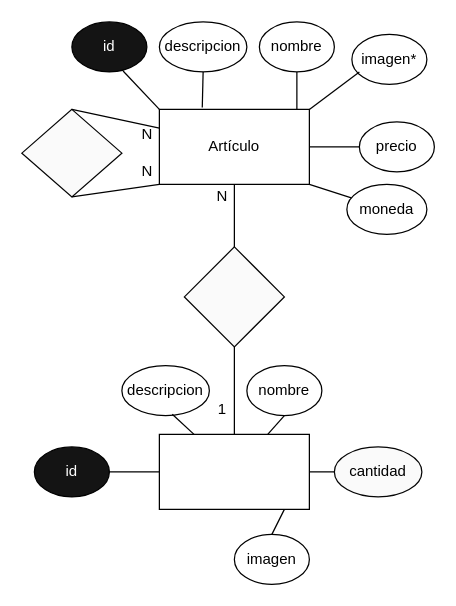
Some shapes in this 456 by 606 pixel diagram are drawn without their labels. Each missing label, with the box of its shape:
Categoría: (158, 433, 309, 509)
contiene: (183, 246, 284, 347)
relacionados: (21, 108, 122, 197)
